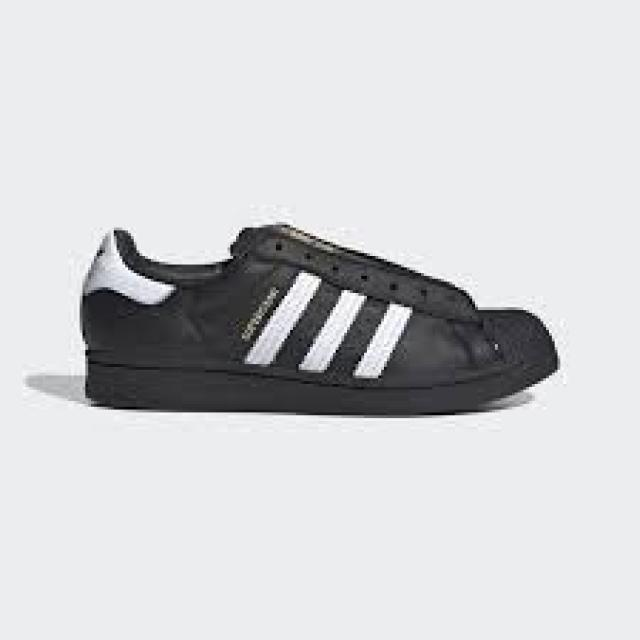shoe: (72, 219, 568, 418)
